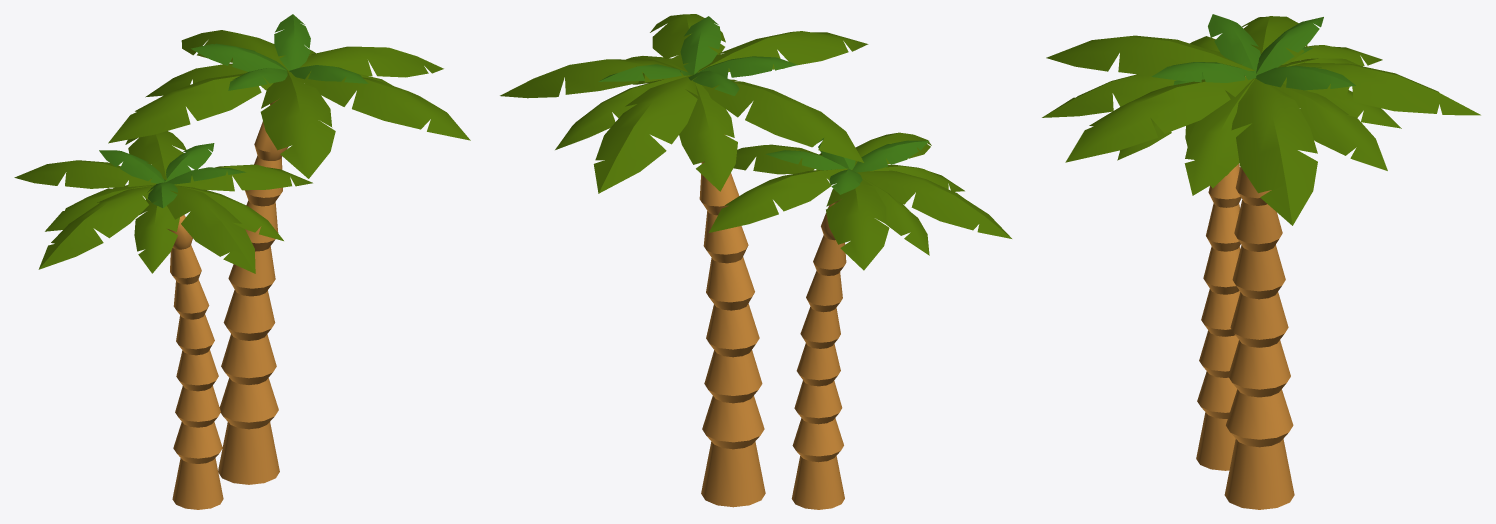
The model's file is outElement3.glb.
3 renders of one model, left to right at view 1: azimuth 30°, elevation 25°; view 2: azimuth 150°, elevation 25°; view 3: azimuth 270°, elevation 25°, orthographic. The views are drawn at different scales.
Visible parts, largest first — view 1: Circle, Circle.001; view 2: Circle, Circle.001; view 3: Circle, Circle.001.
Boxes of the visible parts, x1,y1,x2,y2 form: Circle: (108,14,470,484); Circle.001: (14,131,312,509); Circle: (500,14,868,507); Circle.001: (709,132,1011,509); Circle: (1046,14,1480,509); Circle.001: (1042,36,1401,470).
Size of the model in its own units: 19.83 by 17.4 by 14.9.
